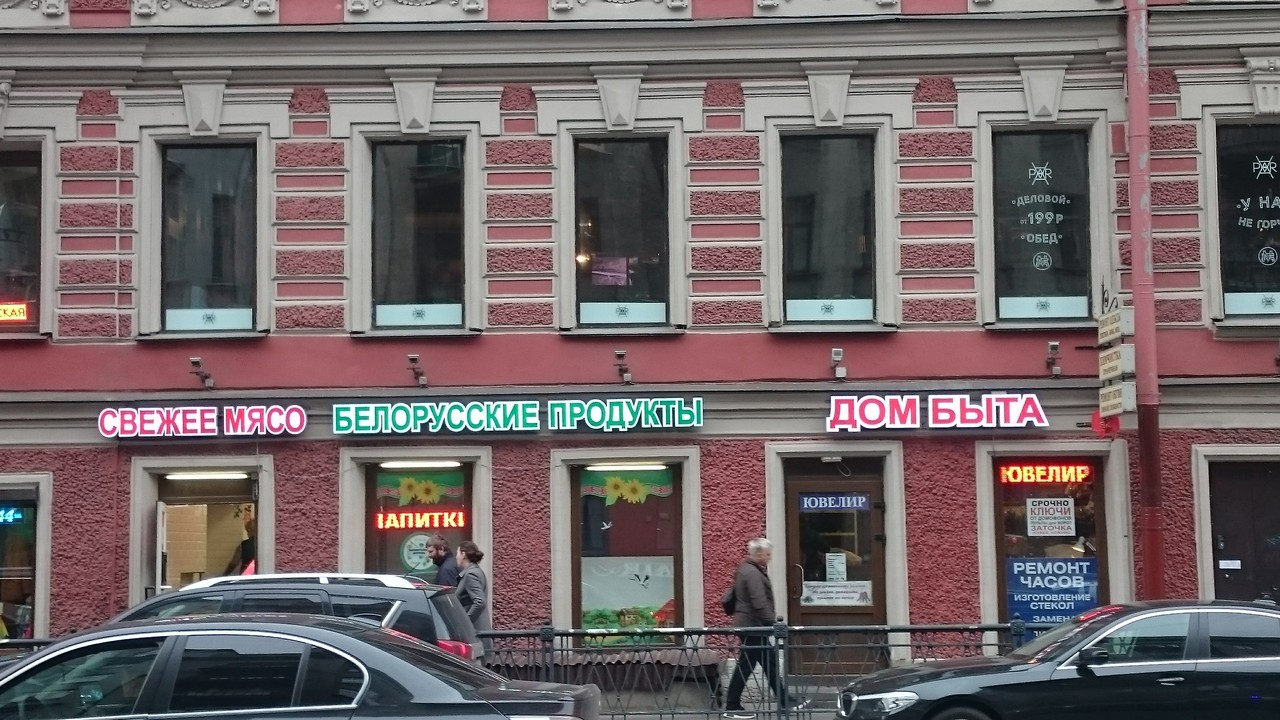cantilever: (1073, 277, 1144, 438)
door: (787, 458, 882, 674)
signboard: (100, 399, 702, 439), (820, 388, 1048, 435)
window: (572, 460, 678, 649), (159, 141, 256, 334), (777, 133, 876, 321), (572, 135, 666, 331), (998, 128, 1087, 330), (372, 142, 469, 325)
